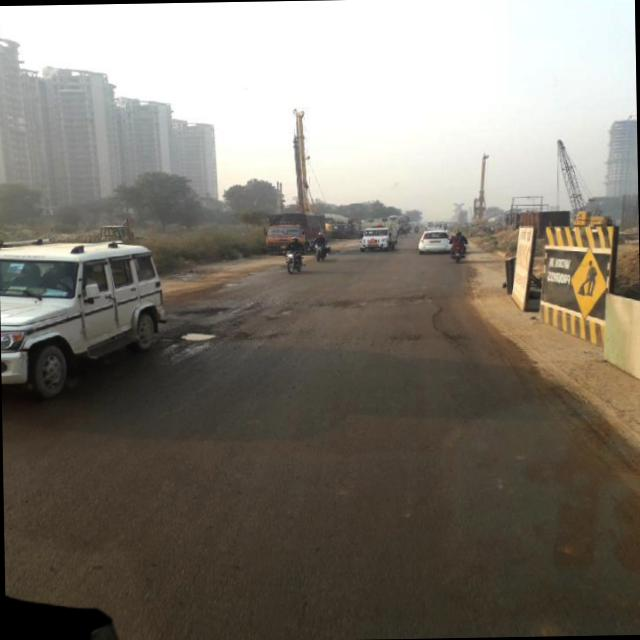crack: (409, 288, 466, 344)
pothole: (310, 282, 404, 310), (173, 320, 230, 356), (274, 296, 304, 324)
